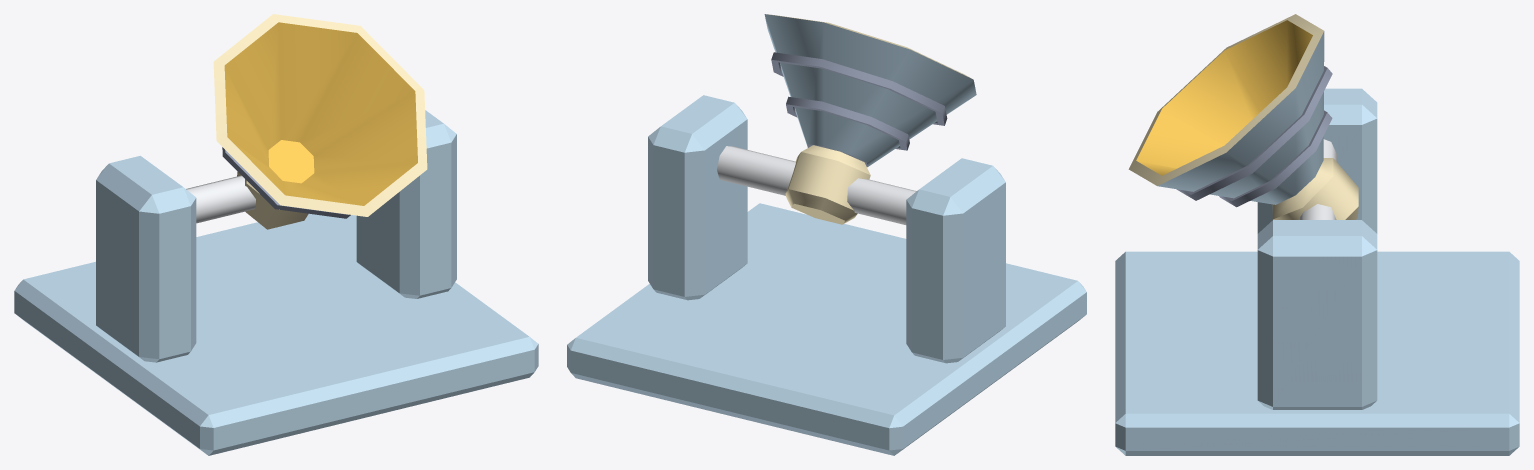
File: R4X_DeployableAmplifier_LOD1.glb
3 views of the same model, side by side, from view 1: azimuth 30°, elevation 25°; view 2: azimuth 150°, elevation 25°; view 3: azimuth 270°, elevation 25° (orthographic). The views are drawn at different scales.
Visible parts, largest first — view 1: R4X_DeployableAmplifier_LOD1; view 2: R4X_DeployableAmplifier_LOD1; view 3: R4X_DeployableAmplifier_LOD1.
Part boxes in pixels (box(x1,y1,x2,y2)): R4X_DeployableAmplifier_LOD1: box(14, 14, 538, 455); R4X_DeployableAmplifier_LOD1: box(567, 14, 1086, 455); R4X_DeployableAmplifier_LOD1: box(1115, 14, 1519, 455).
Size of the model in its own units: 0.52 by 0.488 by 0.52.
